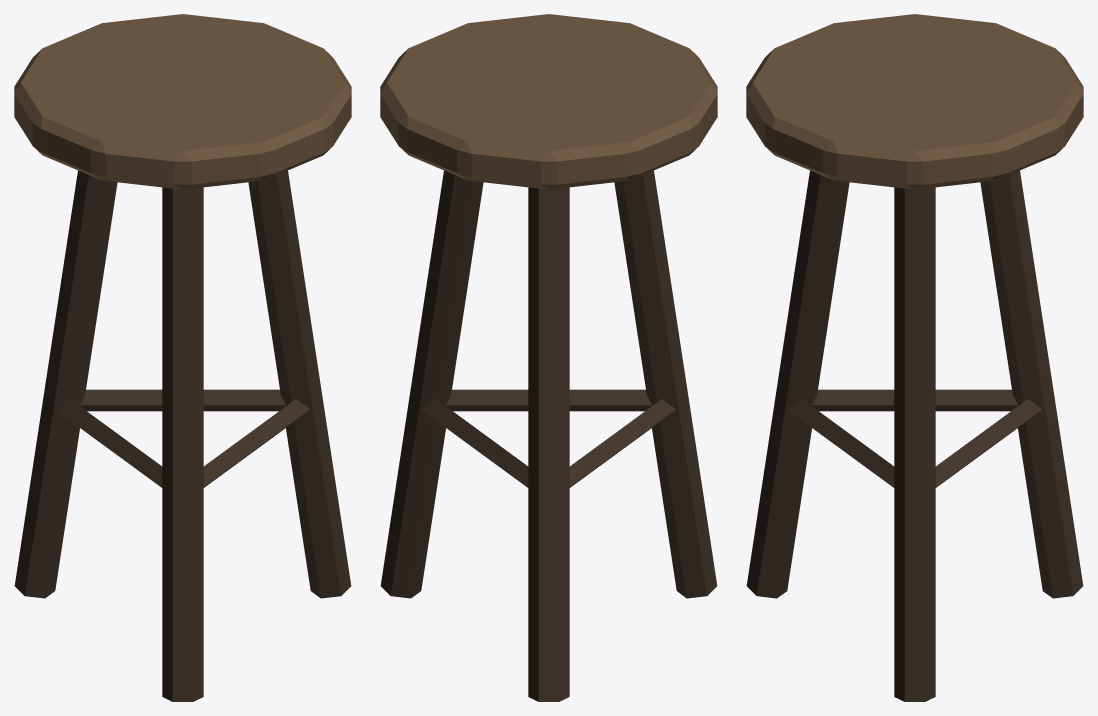
Rendered from stool.glb.
3 renders of one model, left to right at view 1: azimuth 30°, elevation 25°; view 2: azimuth 150°, elevation 25°; view 3: azimuth 270°, elevation 25°, orthographic.
Visible parts, largest first — view 1: stool; view 2: stool; view 3: stool.
Boxes of the visible parts, bbox=[...] form: stool: bbox=[14, 14, 351, 701]; stool: bbox=[380, 14, 717, 701]; stool: bbox=[746, 14, 1083, 701].
Size of what is drawn, in the model's own units: 0.418 by 0.7032 by 0.3948.
